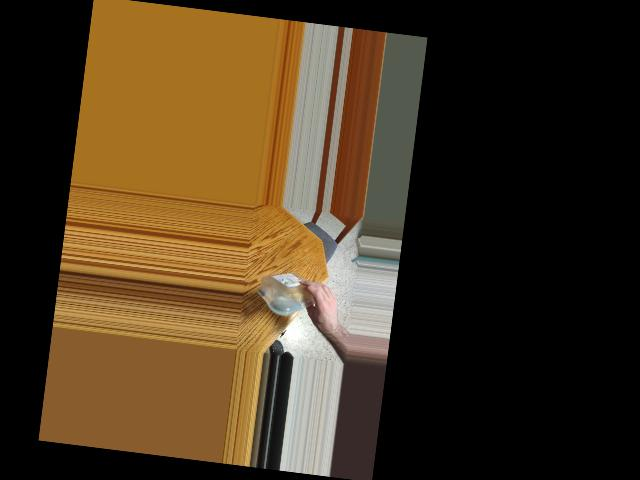cheese: (259, 271, 327, 314)
